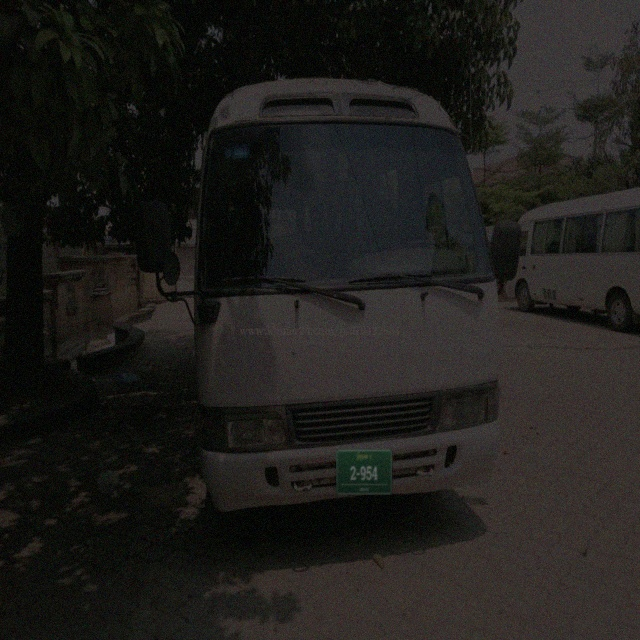Plate Number: (336, 450, 393, 496)
